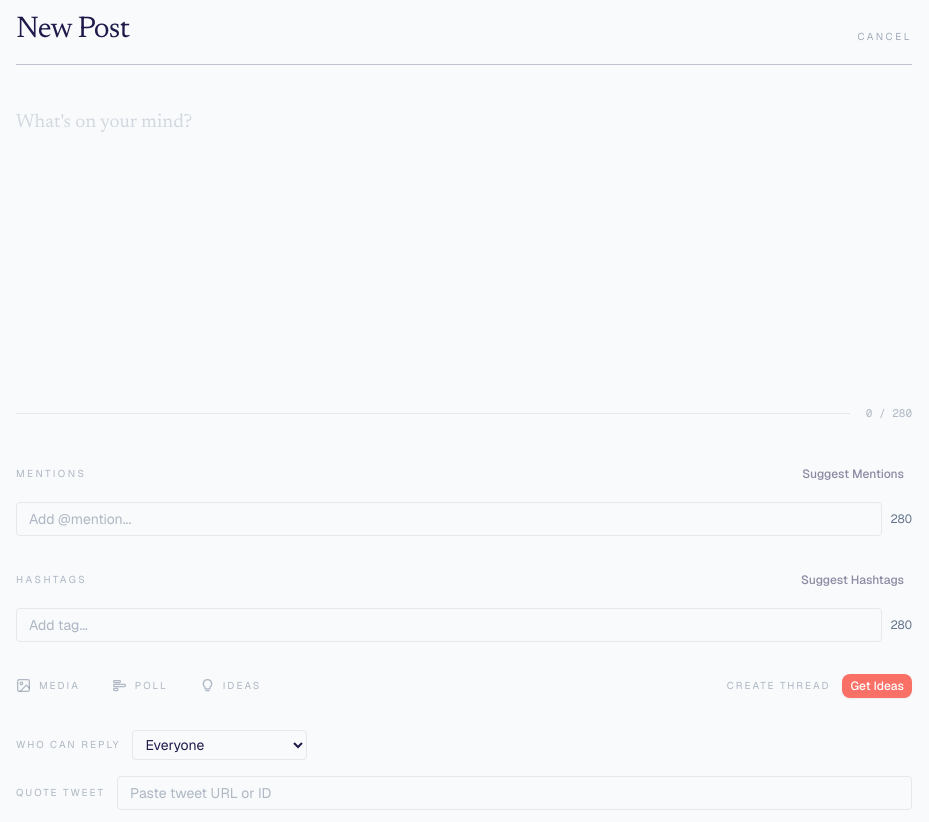
Test: New post editor page › updates character count as user types
This screenshot has width=929, height=822.
Type "Hello" into the text box with placeholder "What's on your mind?" at (464, 246), box [16,105,912,386]
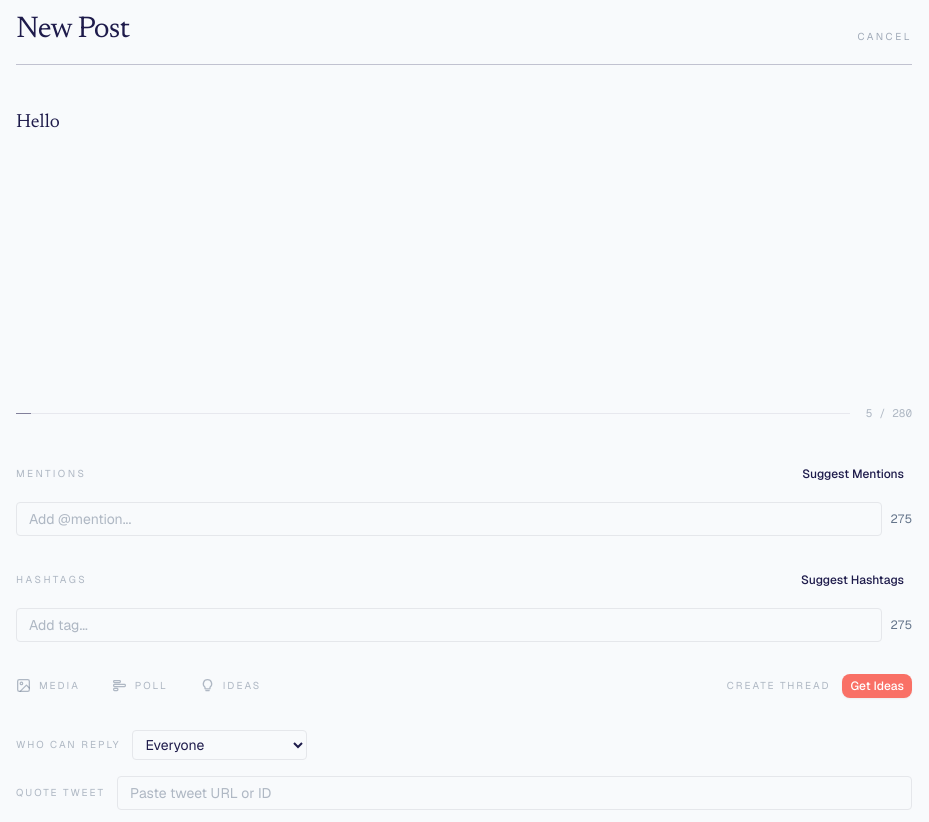
Expected: the text "5 / 280" is shown, [866,405,912,422]
